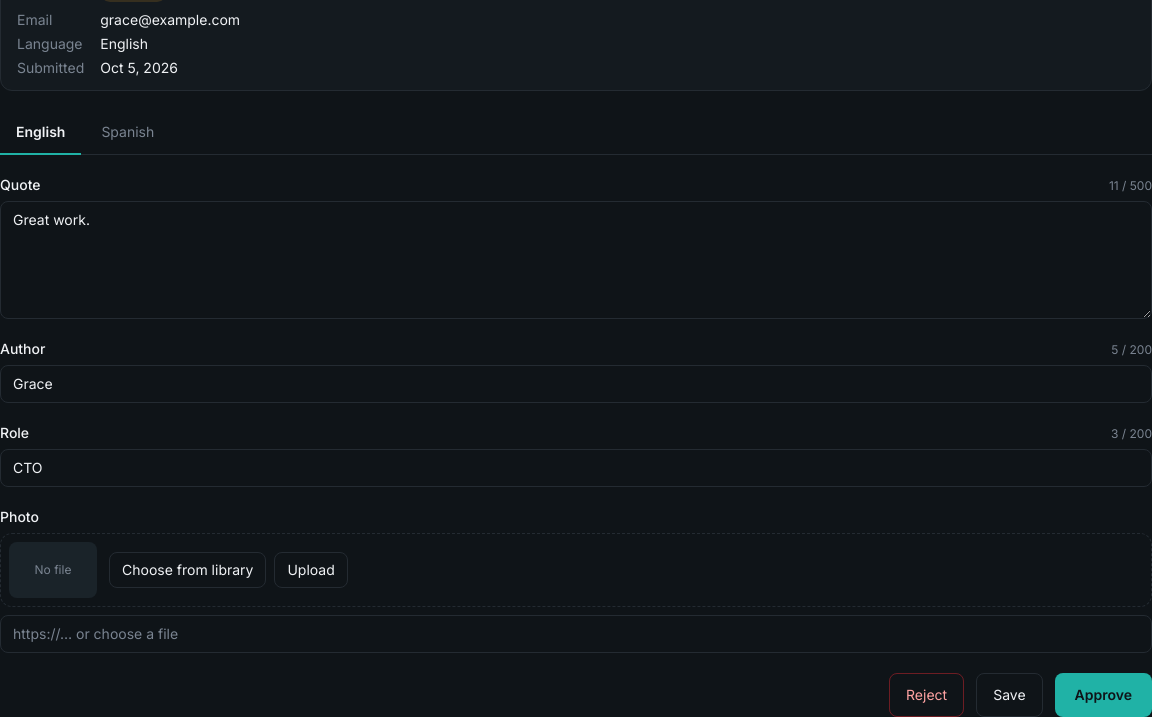
Scenario: ItemForm reject › asks for confirmation, and Cancel changes nothing
(page scrolled)
Click the button "Reject" at (927, 695), box [889, 673, 964, 716]
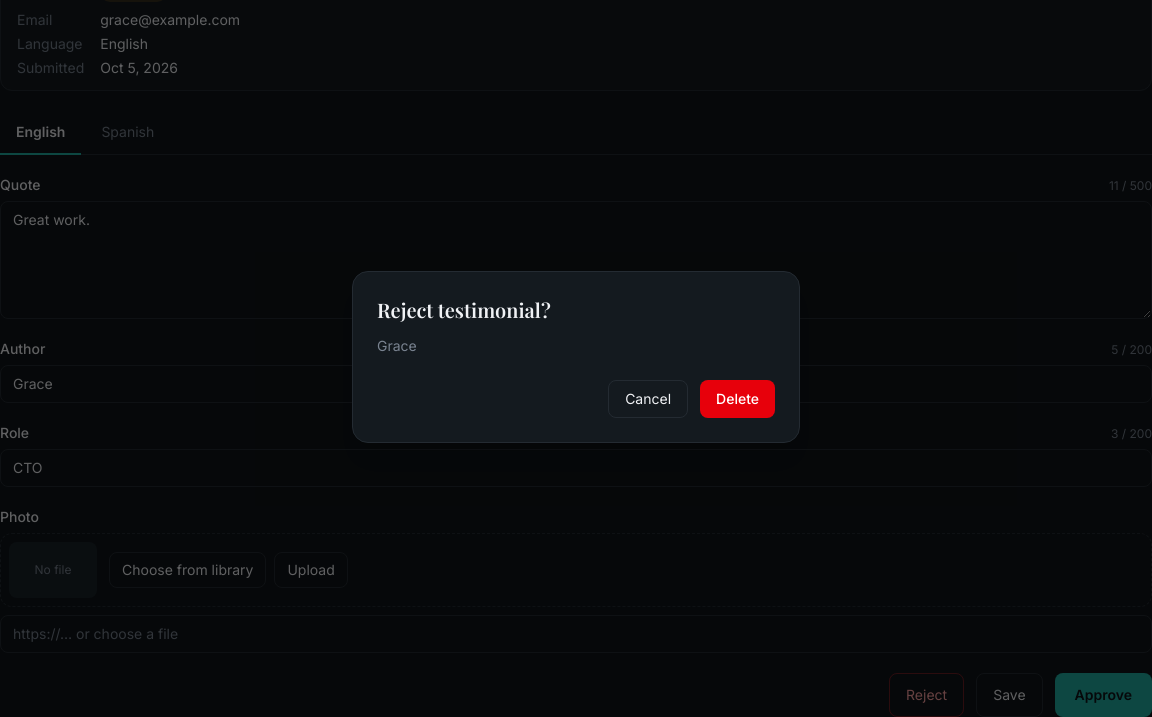
Result: the dialog "Reject testimonial?" shows "Grace" at [377, 337, 417, 354]
Click the button "Cancel" at (648, 399), box [608, 380, 688, 418]
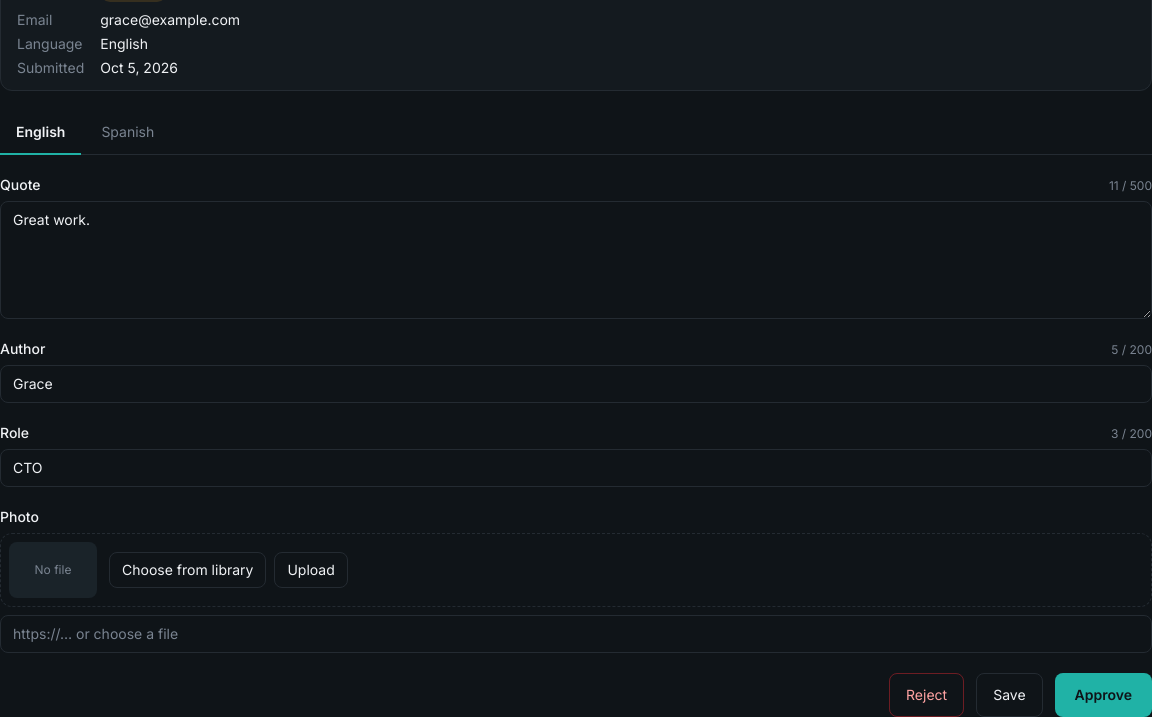
Result: the dialog is gone
